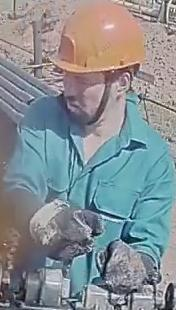gloves: (26, 197, 105, 264), (95, 239, 154, 292)
helmet: (49, 0, 147, 83)
vest: (6, 90, 175, 297)
